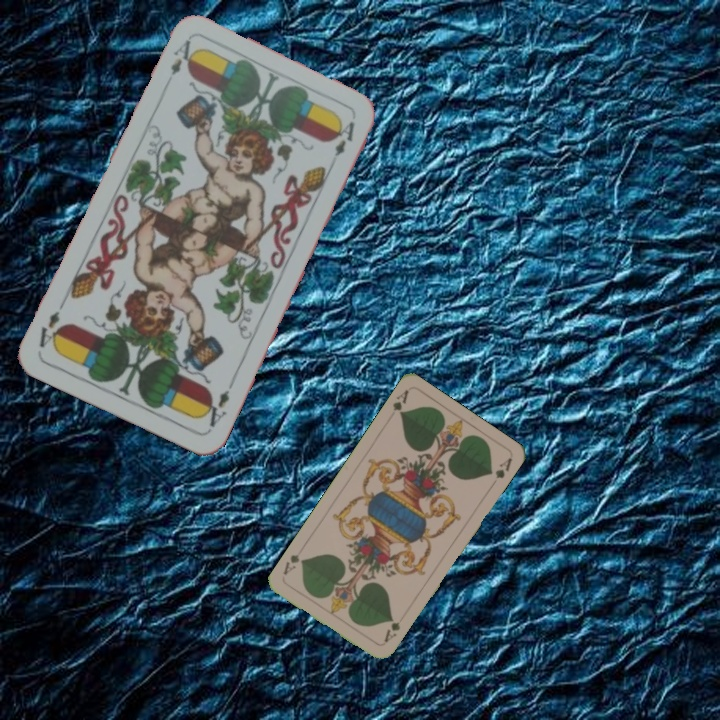EA: (198, 376, 237, 430), (166, 35, 195, 78)
GA: (380, 612, 408, 645), (388, 386, 411, 418)
